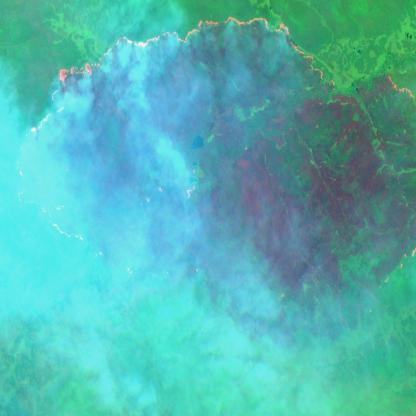fire: (9, 0, 416, 289)
